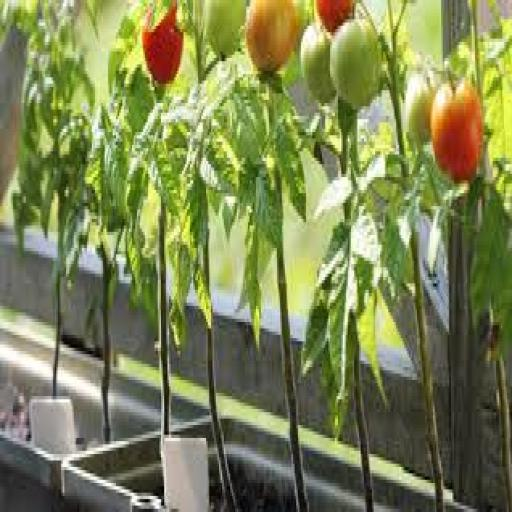tomato: (430, 81, 483, 183), (331, 20, 381, 109), (247, 0, 297, 74), (142, 4, 183, 83), (302, 23, 336, 103), (203, 0, 246, 57), (405, 75, 436, 148), (316, 0, 354, 32), (294, 0, 312, 41)
